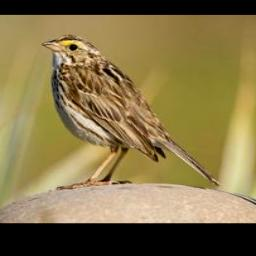Sparrow: (39, 31, 224, 199)
